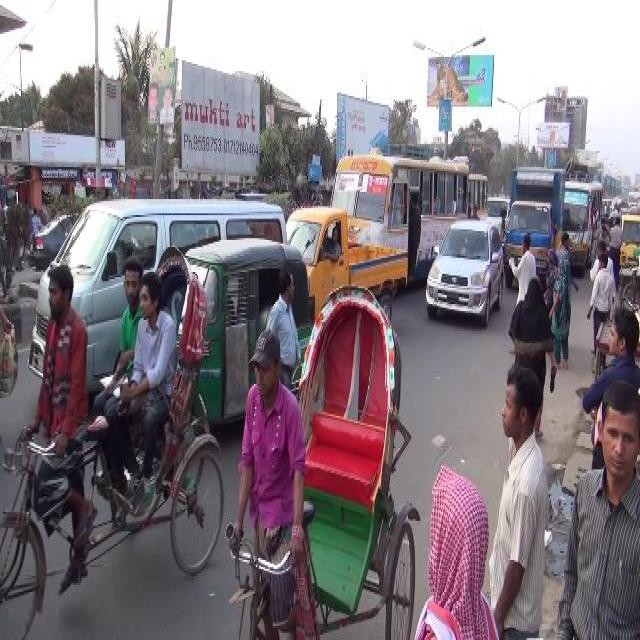bus: (564, 164, 604, 273), (468, 171, 490, 224)
car: (27, 208, 51, 268)
minibus: (332, 155, 474, 222)
pickup: (284, 202, 410, 321), (504, 158, 566, 304), (616, 205, 638, 264)
rickshaw: (0, 238, 225, 638), (223, 279, 423, 631)
suv: (424, 213, 504, 331)
three wheelers -CNG-: (199, 222, 307, 404)
van: (615, 260, 639, 308)
